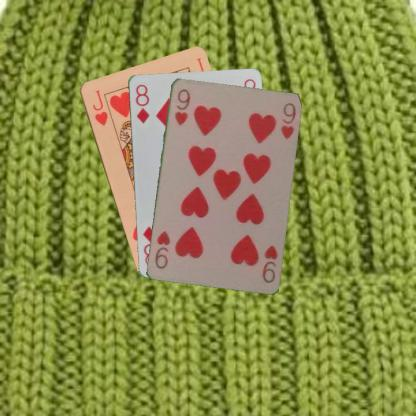8d: (132, 82, 150, 124)
9h: (259, 242, 279, 284), (172, 86, 192, 127)
Jh: (90, 86, 108, 126)
